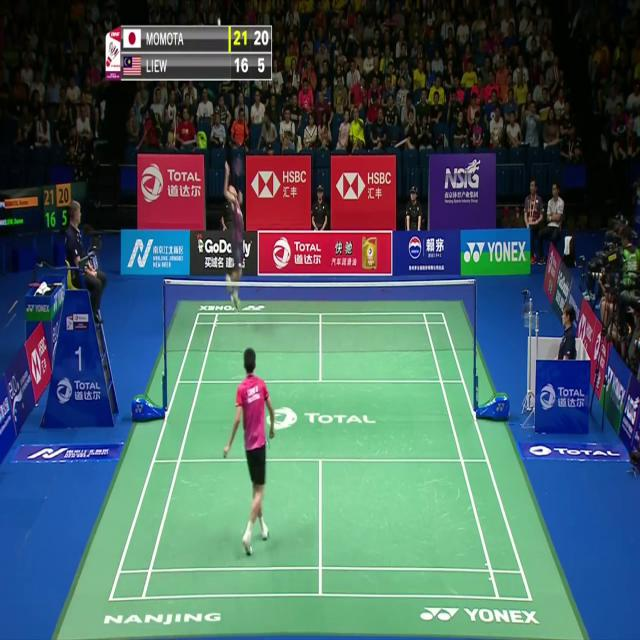Shuttlecock: (216, 16, 223, 28)
